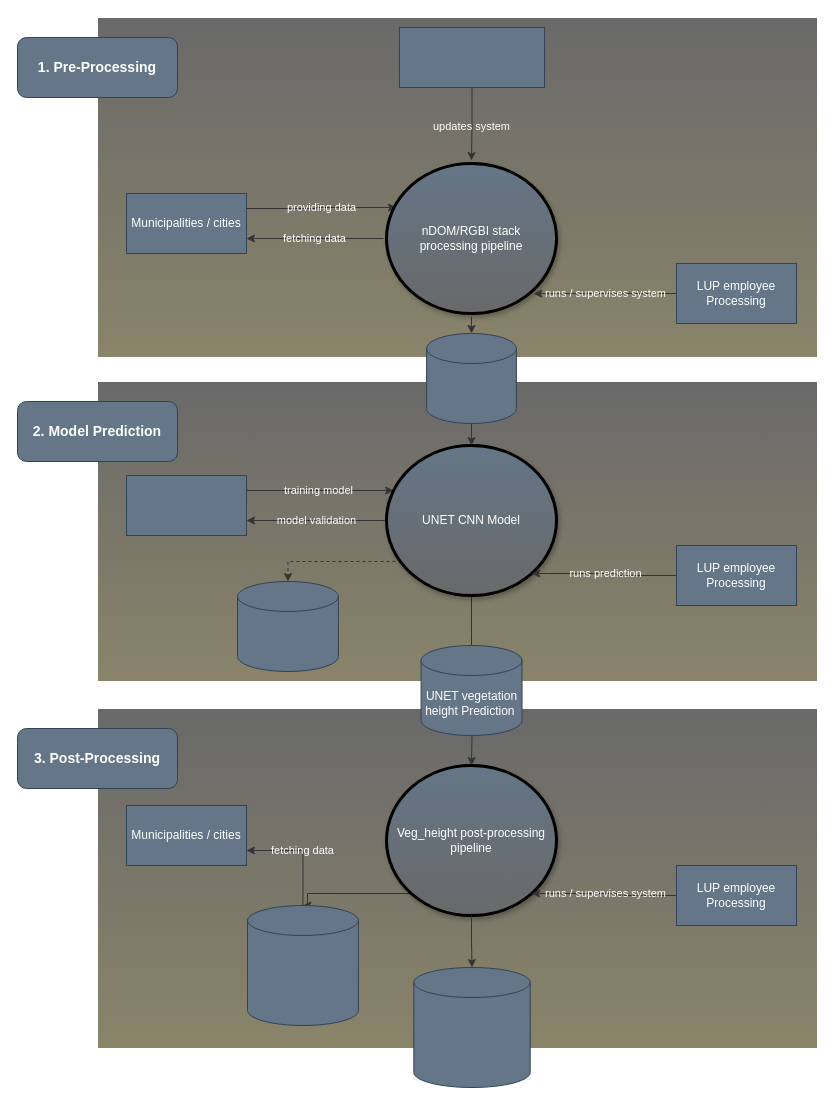
The diagram is 835 pixels wide and 1105 high, and some of its shapes have lost their labels. The shapes that lost their labels are listed below. From the top down, each one's centre as x and y in pixels, then its label:
pixel 471 57: LUP employee Software engineer
pixel 471 378: processed RGB(I)_nDSM stacks
pixel 186 505: LUP employee Machine learning specialist
pixel 287 626: UNET soil sealing prediction
pixel 302 965: 50 cm High-resolution Datasets: Vegetation height Green Volume Canopy Cover
pixel 471 1027: 10m Aggregated datsets: Vegetation height Green Volume Canopy Cover
